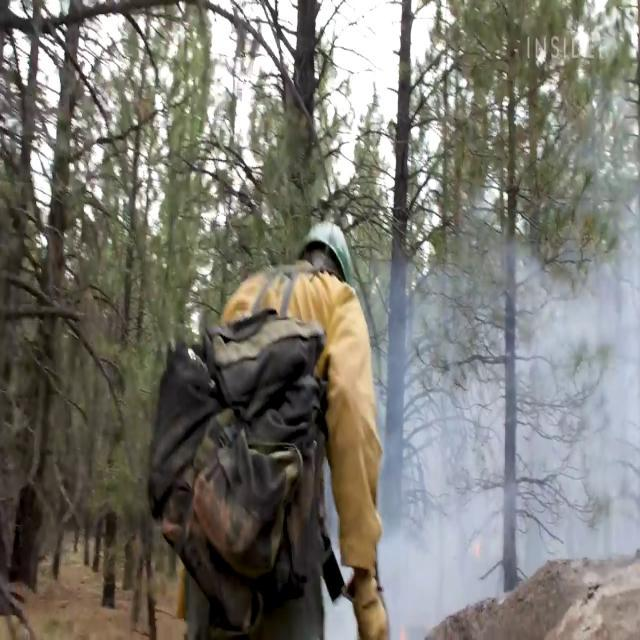Smoke: (351, 147, 640, 626)
